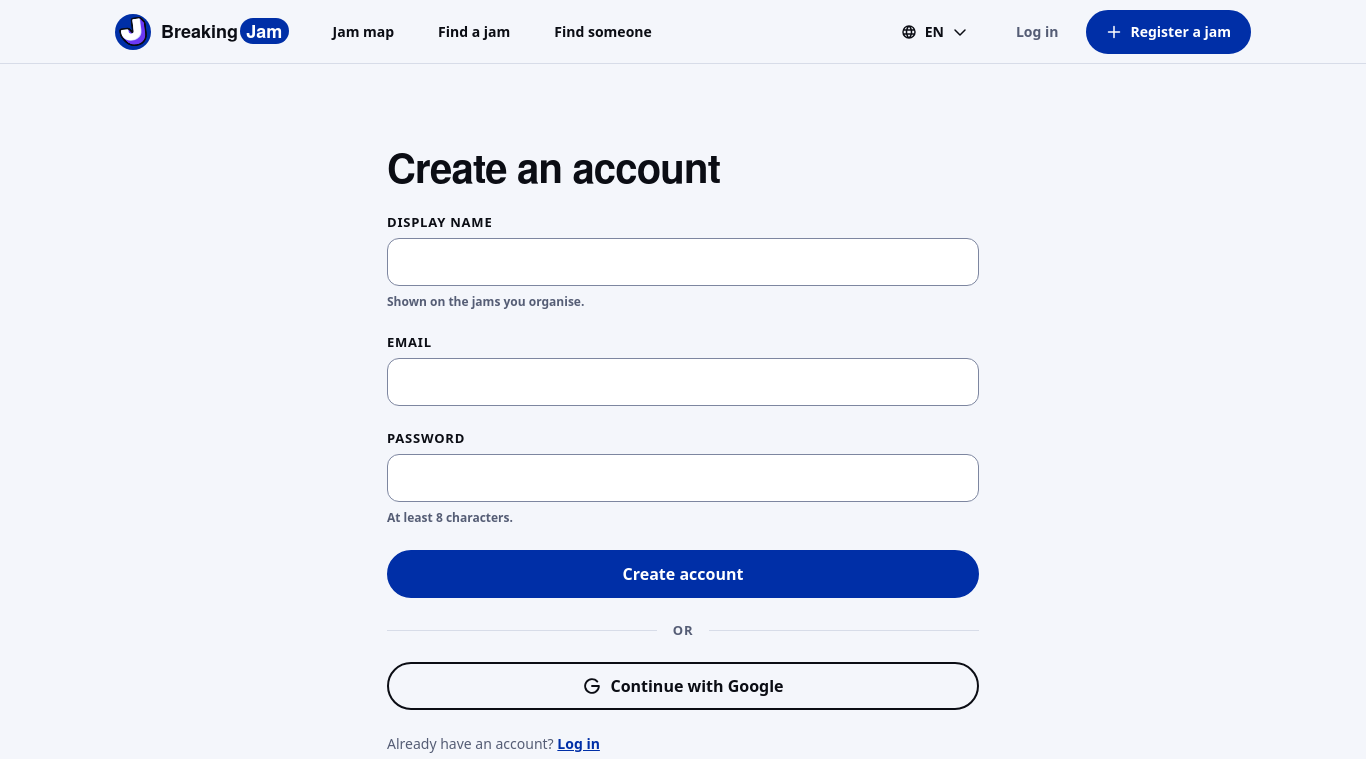
RegisterPage › shows server-side field errors under their field
The width and height of the screenshot is (1366, 759).
Type "Lil G" into the field labelled "Display name" at [683, 262], box [387,238,979,286]
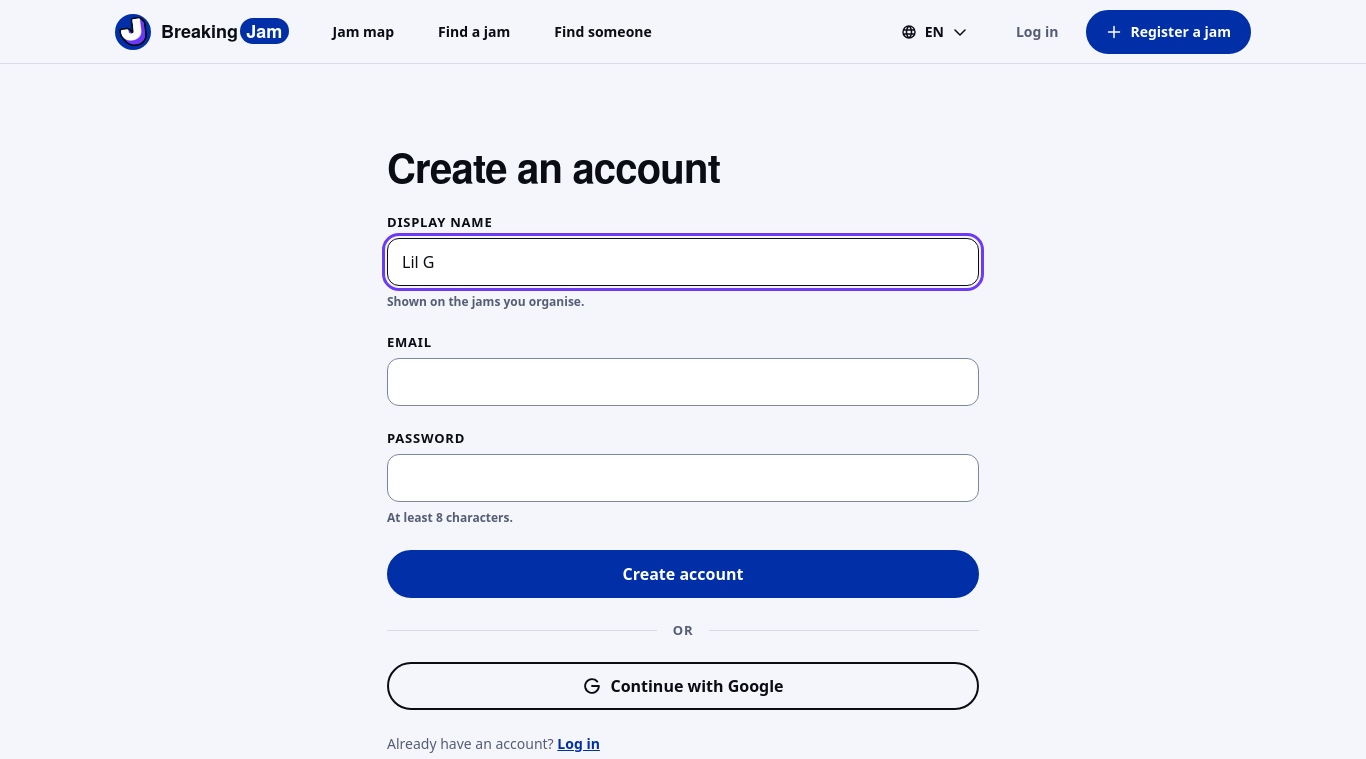
Type "lilg@example.com" into the field labelled "Email" at [683, 382], box [387,358,979,406]
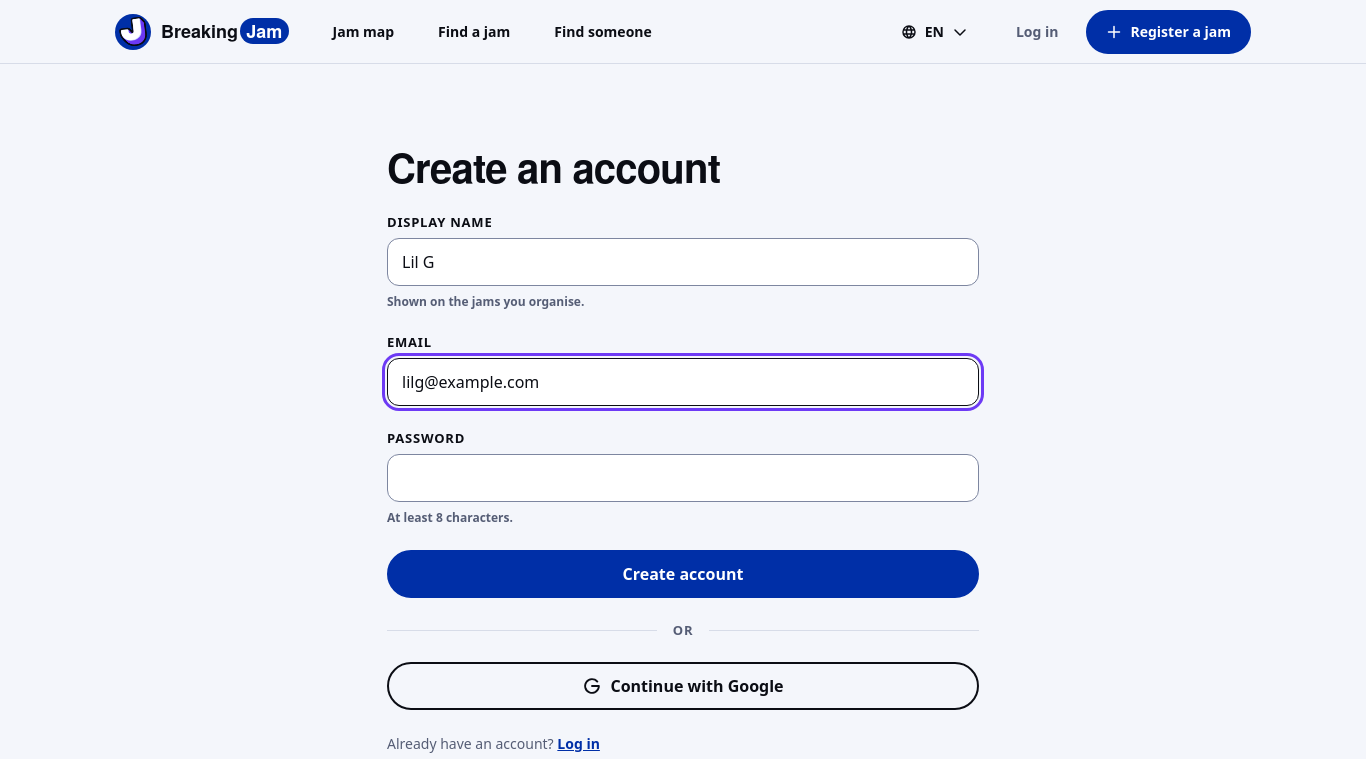
Type "correct horse" into the password field labelled "Password" at [683, 478], box [387,454,979,502]
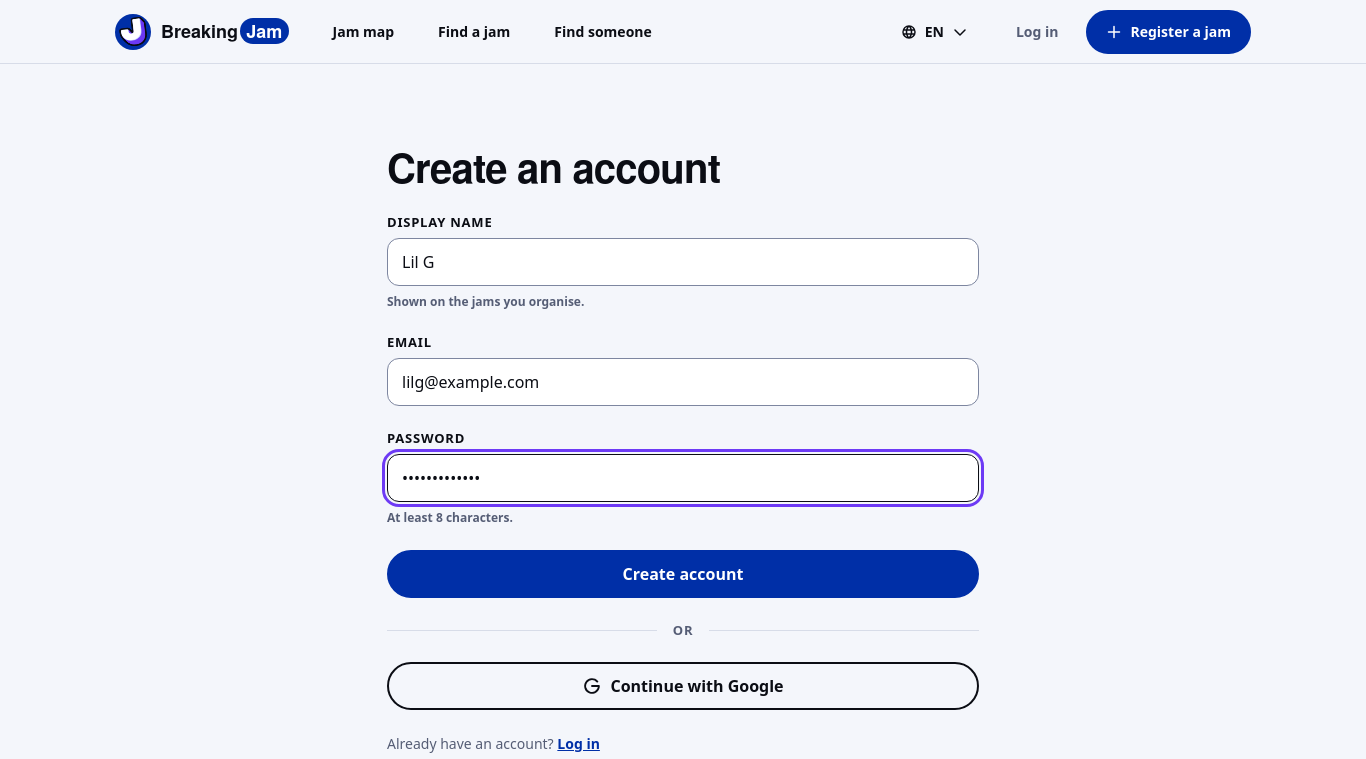
Click the button "Create account" at [683, 574], box [387,550,979,598]
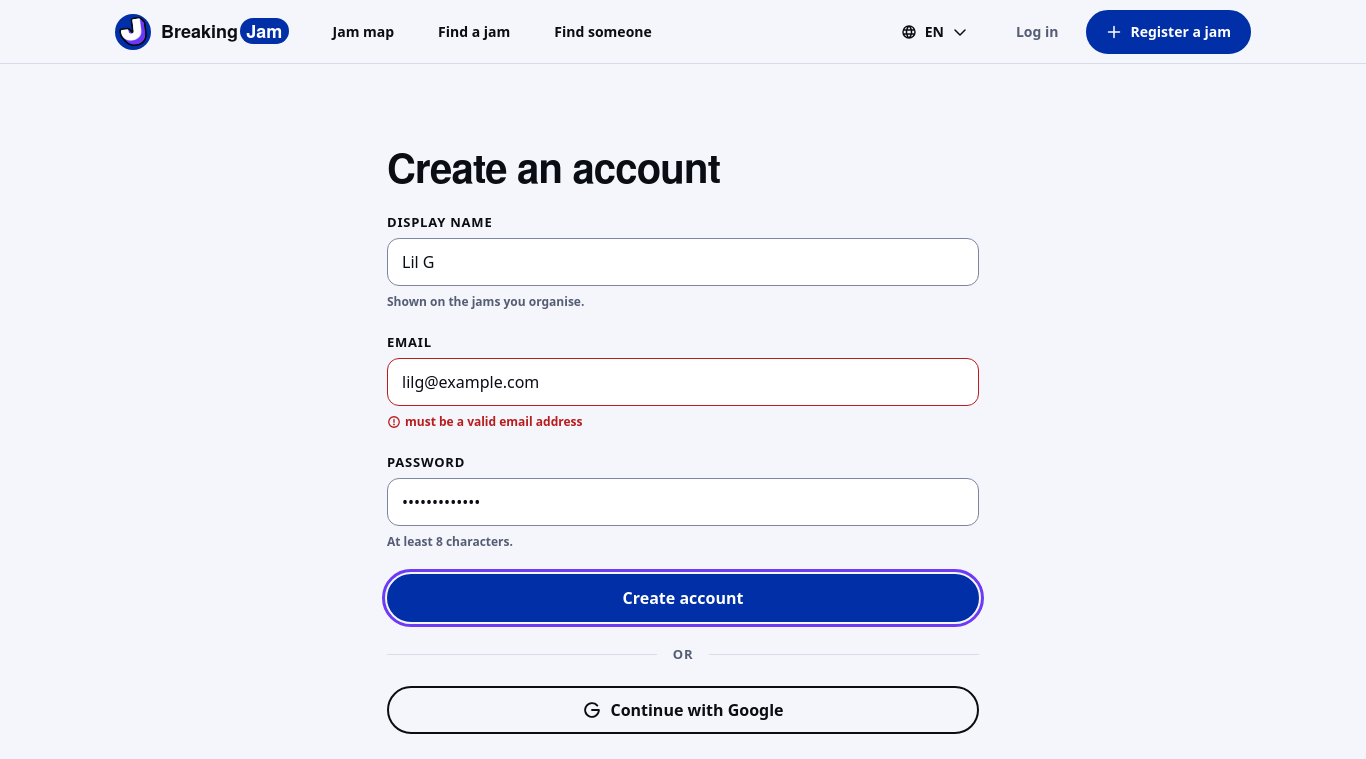
Expected: the text "must be a valid email address" is shown, [387,413,582,430]
